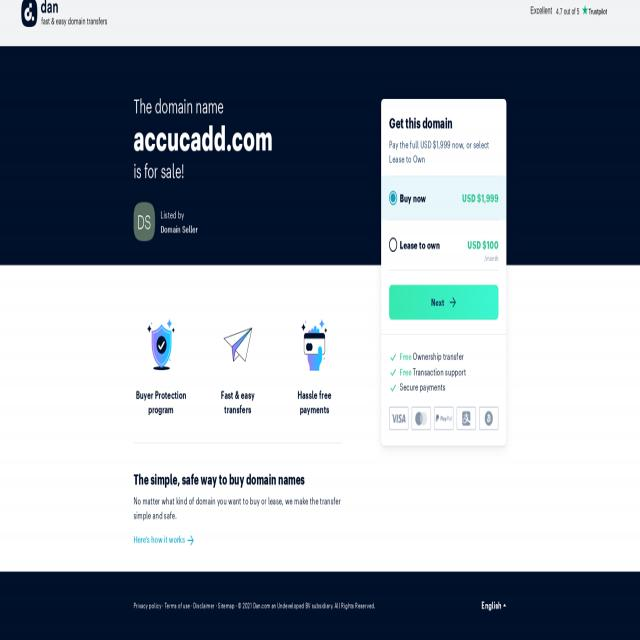button: (389, 286, 498, 320), (130, 198, 204, 248), (21, 0, 107, 29), (389, 406, 409, 429), (456, 407, 476, 430), (412, 407, 431, 430), (434, 407, 453, 430), (479, 408, 498, 431)
field: (389, 190, 397, 206), (389, 237, 397, 253), (389, 350, 397, 365), (389, 365, 397, 380), (389, 381, 397, 396)
